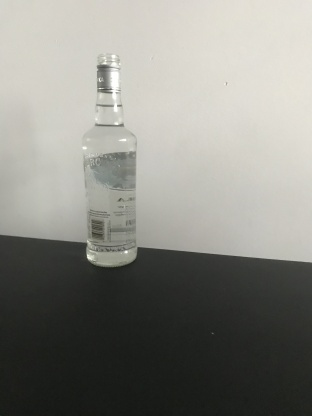nakretka: (95, 51, 122, 94)
